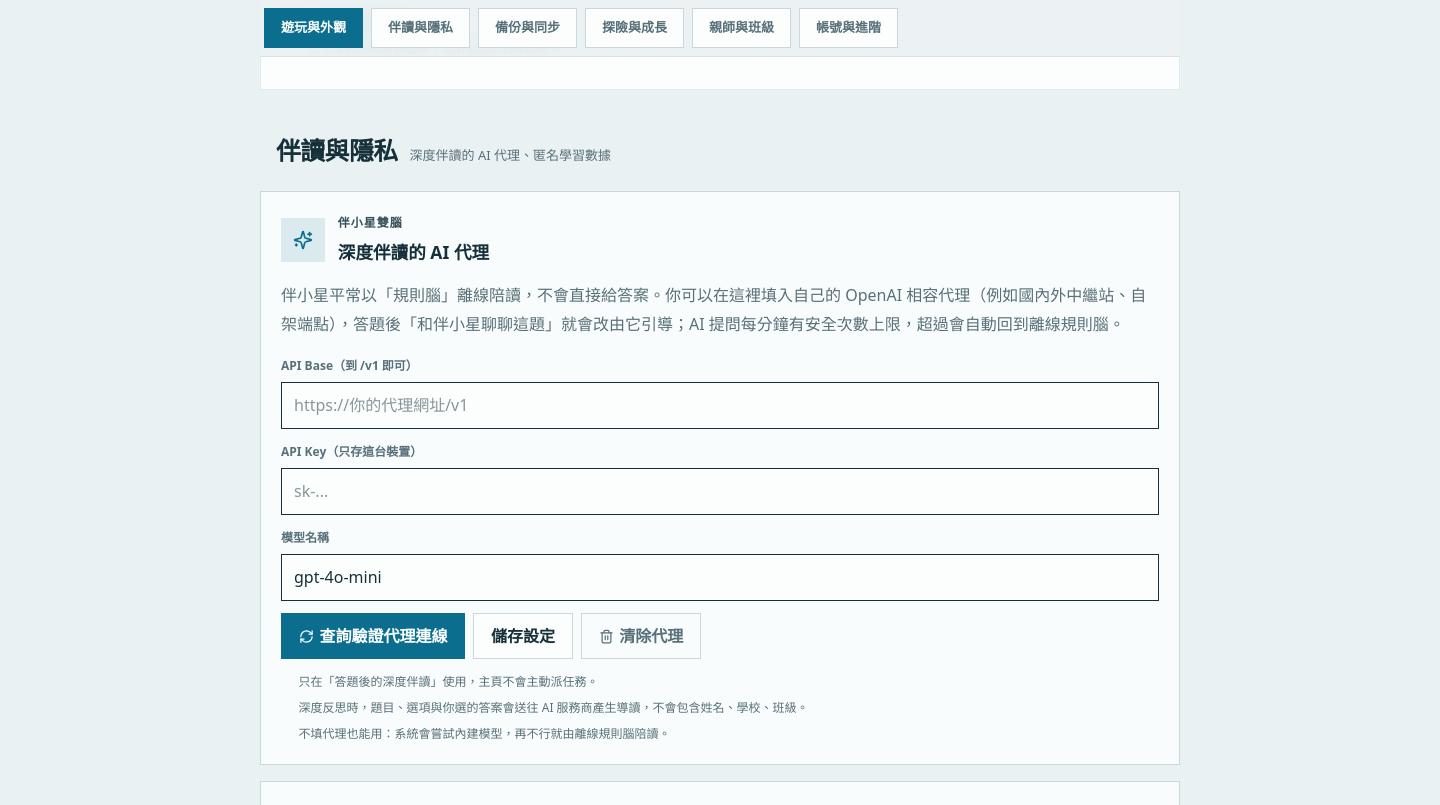
Test: 設定頁伴小星雙腦代理 › 查詢驗證成功時顯示往返時間
(page scrolled)
In the field labelled "API Base（到 /v1 即可）": (720, 405) [281, 382, 1159, 429], type "https://proxy.example.com/v1"
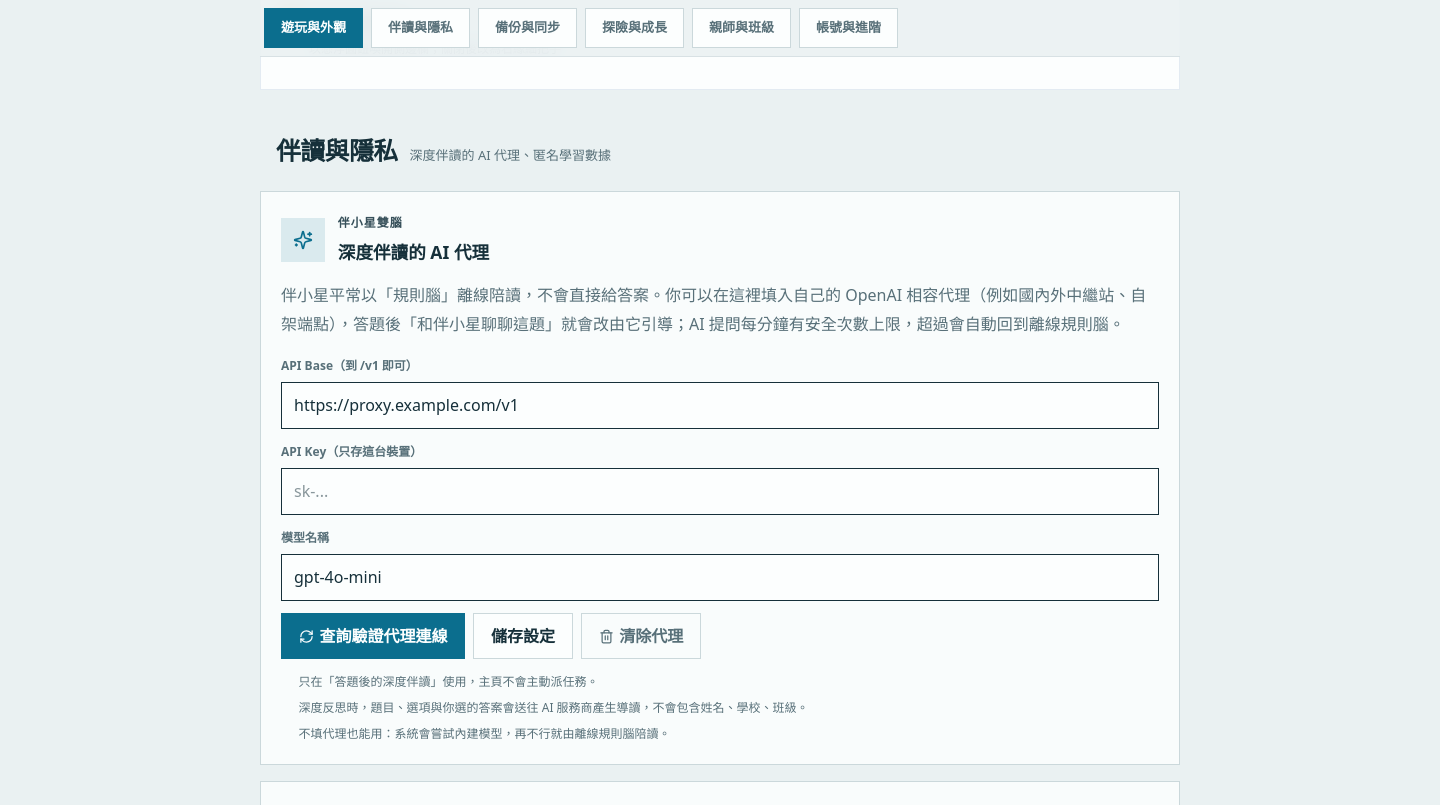
In the password field labelled "API Key（只存這台裝置）": (720, 491) [281, 468, 1159, 515], type "sk-test"
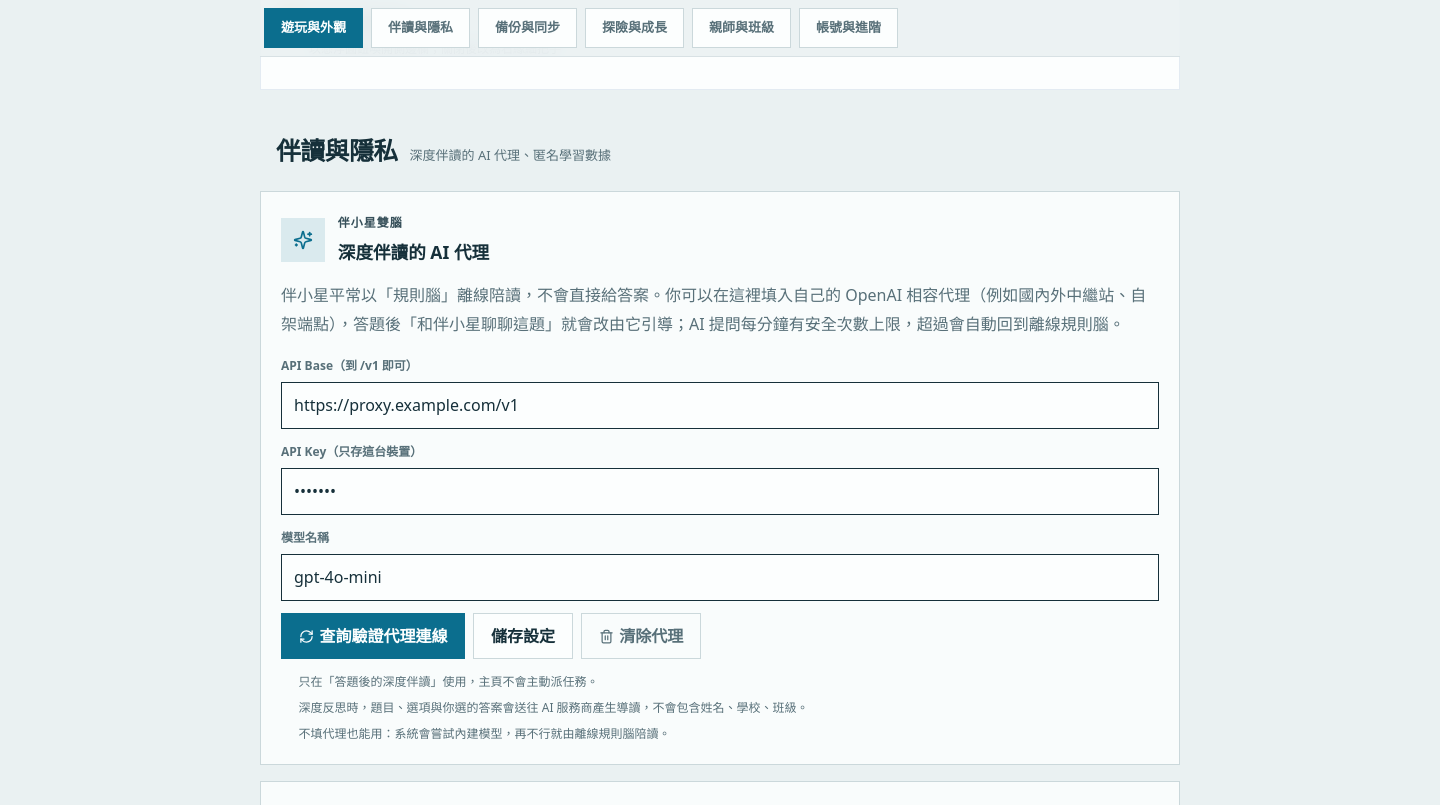
Click the button "查詢驗證代理連線": (373, 636) [281, 613, 465, 660]
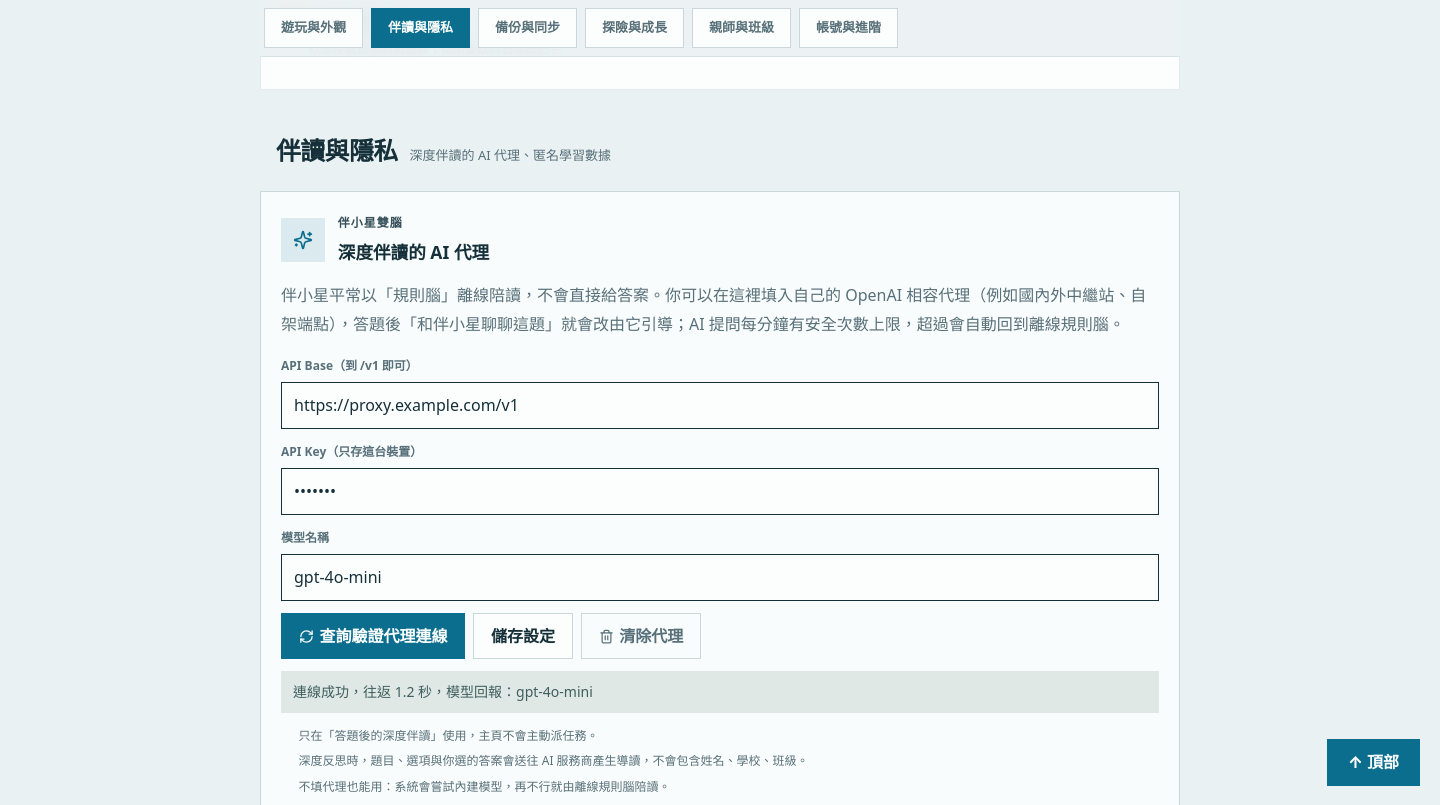
Check: the text "連線成功，往返 1.2 秒，模型回報：gpt-4o-mini" is shown, box [281, 672, 1159, 713]
